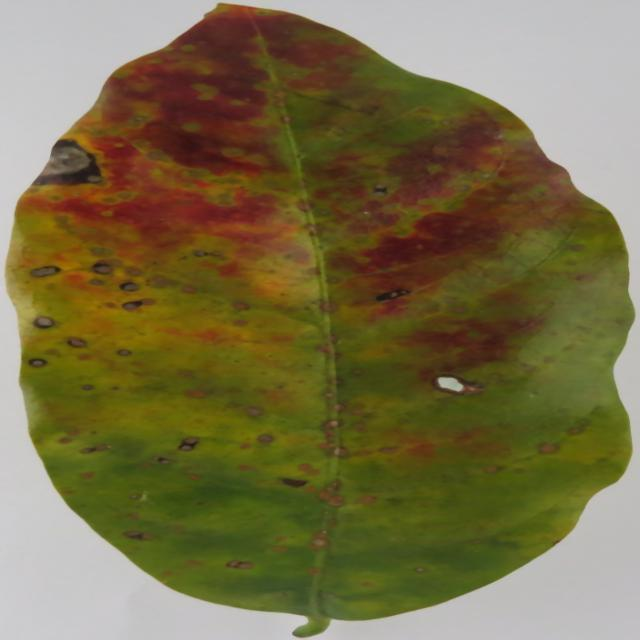DeficienciaNutricional-Fosforo: (8, 5, 631, 619)
